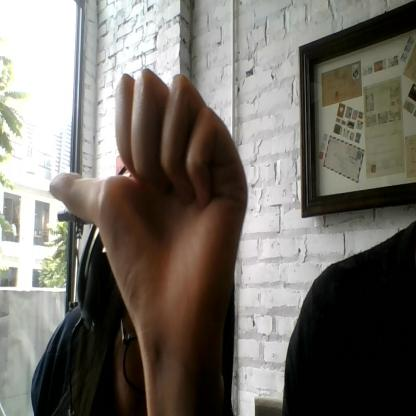right: (48, 70, 249, 332)
